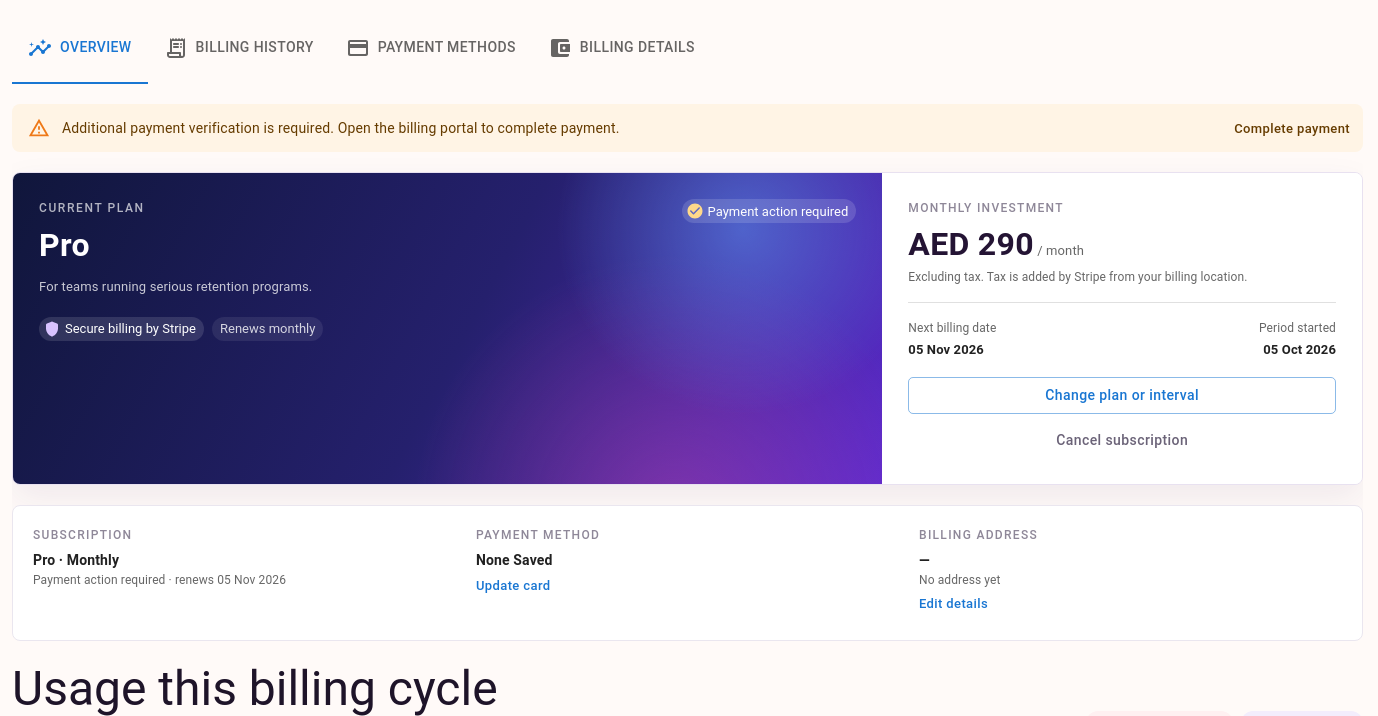
Test: BillingSection › a payment the bank wants authenticated is completed in the app with Stripe 3D Secure
Click the button "Complete payment". click: (1292, 129)
box: [1229, 114, 1355, 145]
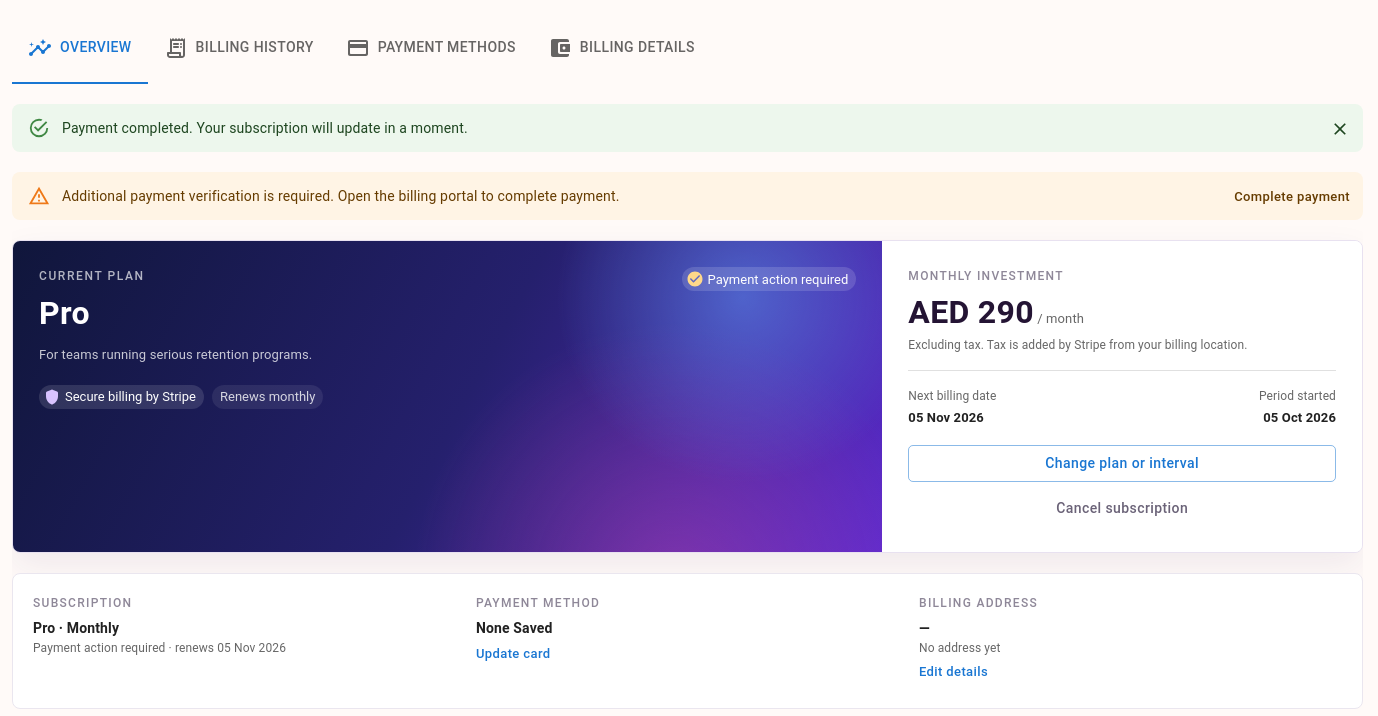
Check: the text "Payment completed" is shown, box [62, 120, 468, 136]
